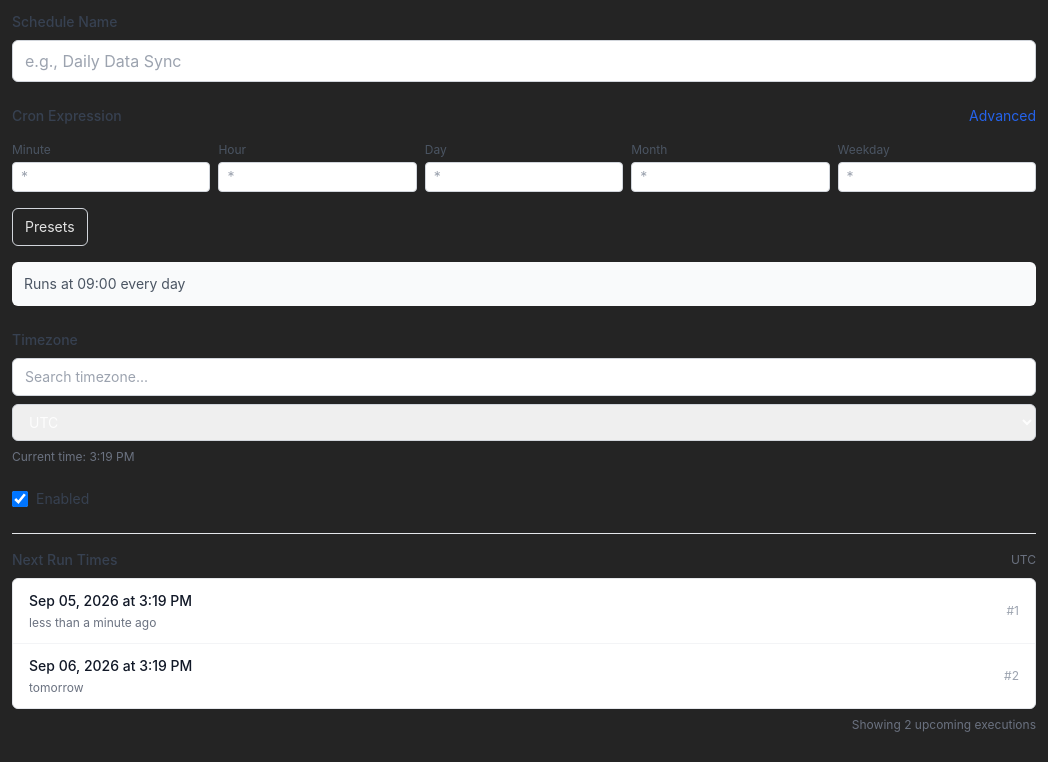
Test: ScheduleForm › Integration with CronBuilder › should validate cron expression in advanced mode
Type "Test" into the field labelled "Schedule Name".
click(524, 61); type("Test")  # box top-left (12, 40), bottom-right (1036, 82)
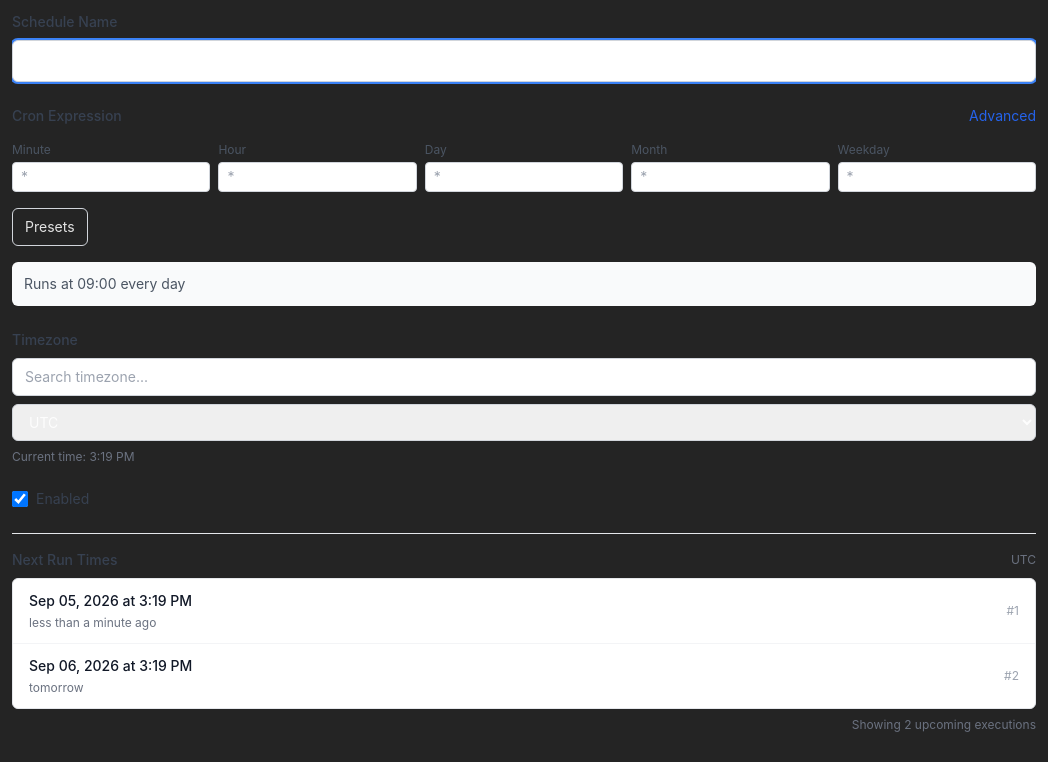
# Switch to advanced mode
Click the button "Advanced".
click(1002, 116)  # box top-left (969, 106), bottom-right (1036, 126)
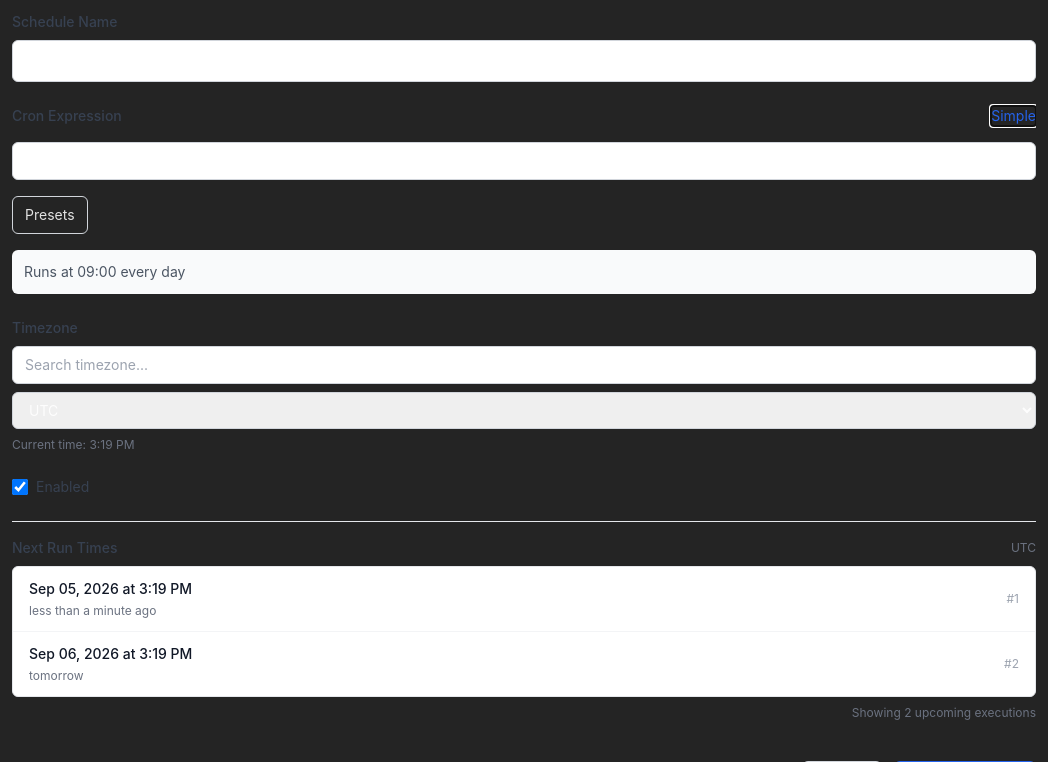
# Enter valid cron expression
Replace the text in the field with placeholder "* * * * *" with "0 12 * * *" at [524, 161], box top-left (12, 142), bottom-right (1036, 180)
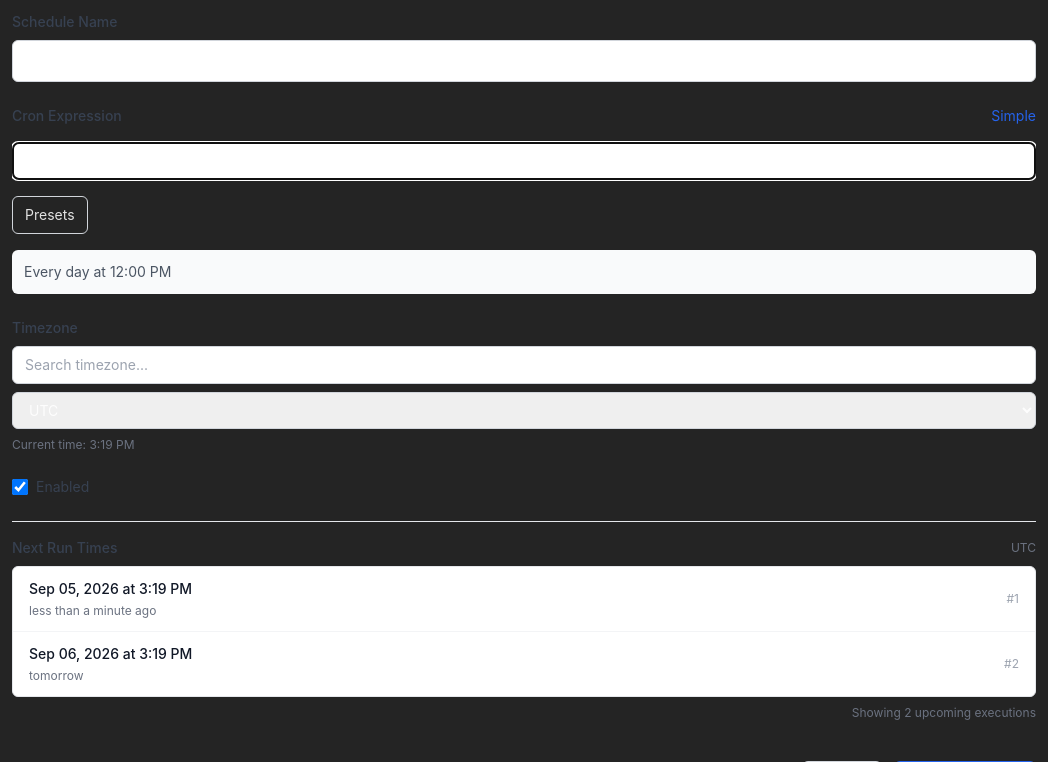
Now the text "Every day at 12:00 PM" is shown, box top-left (12, 250), bottom-right (1036, 294)
